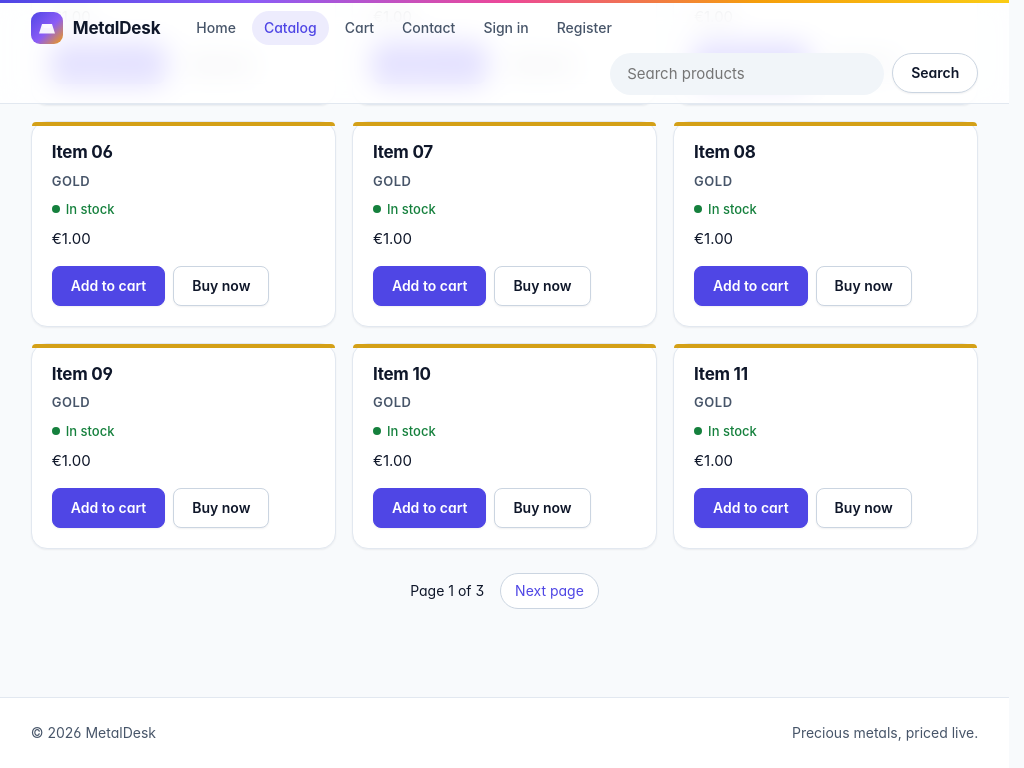
Test case: the catalog › pages a category instead of requesting all of it
The width and height of the screenshot is (1024, 768).
(page scrolled)
What coordinates should you click on to do the following:
click the link "Next page"
I would click on:
 (549, 591)
Its box is [500,573,599,610].
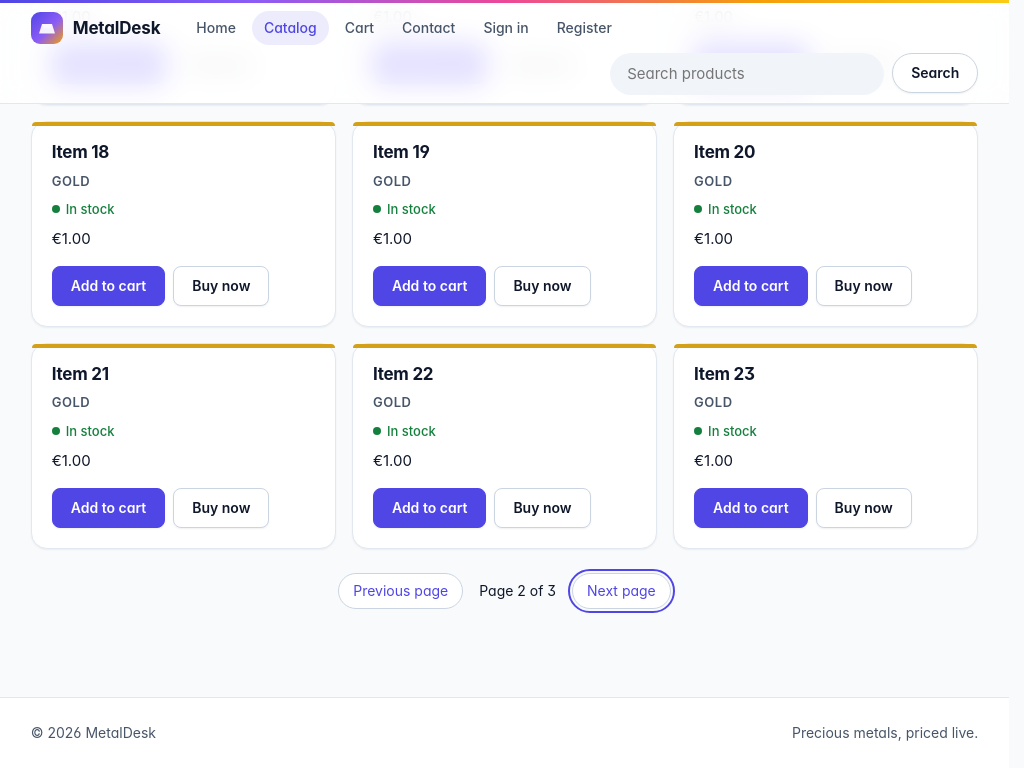
Expected: the text "Page 2 of 3" is shown, [479,580,556,602]
